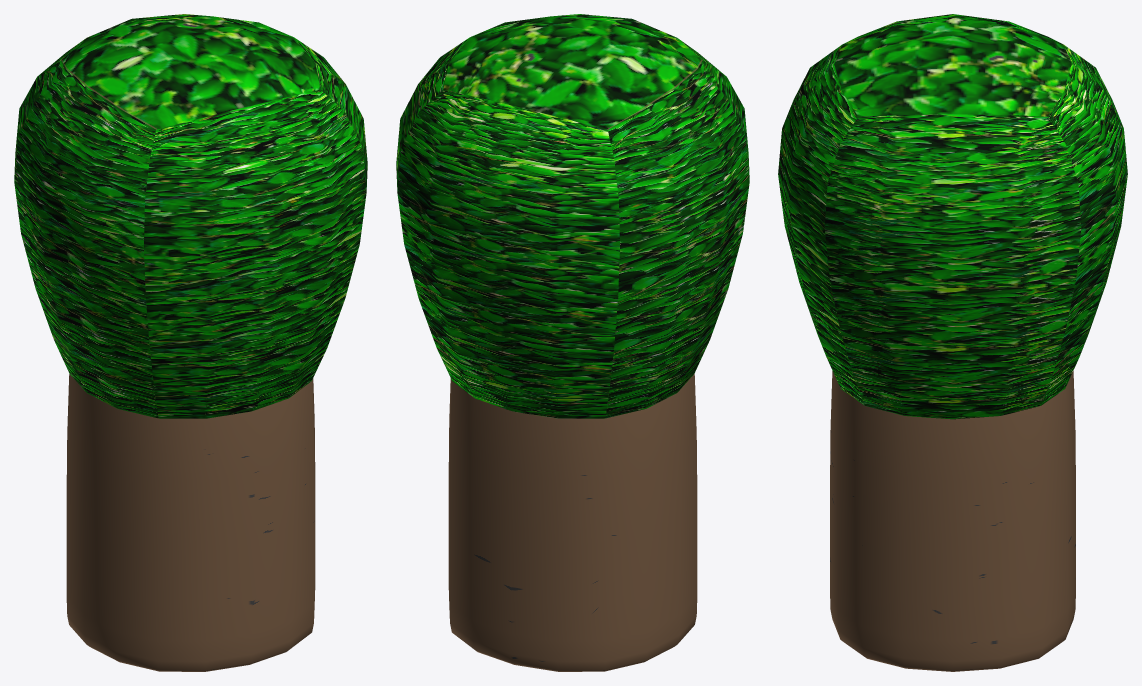
File: VasoRE1.fbx
The picture shows the model from 3 angles, left to right: view 1: azimuth 30°, elevation 25°; view 2: azimuth 150°, elevation 25°; view 3: azimuth 270°, elevation 25°; orthographic projection.
Visible parts, largest first — view 1: Vaso1; view 2: Vaso1; view 3: Vaso1.
Boxes of the visible parts, x1,y1,x2,y2 form: Vaso1: [14, 14, 367, 671]; Vaso1: [396, 14, 749, 671]; Vaso1: [778, 14, 1127, 671].
Size of the model in its own units: 0.3252 by 0.5985 by 0.3252.
Materials: 1 (1 with a texture image).
